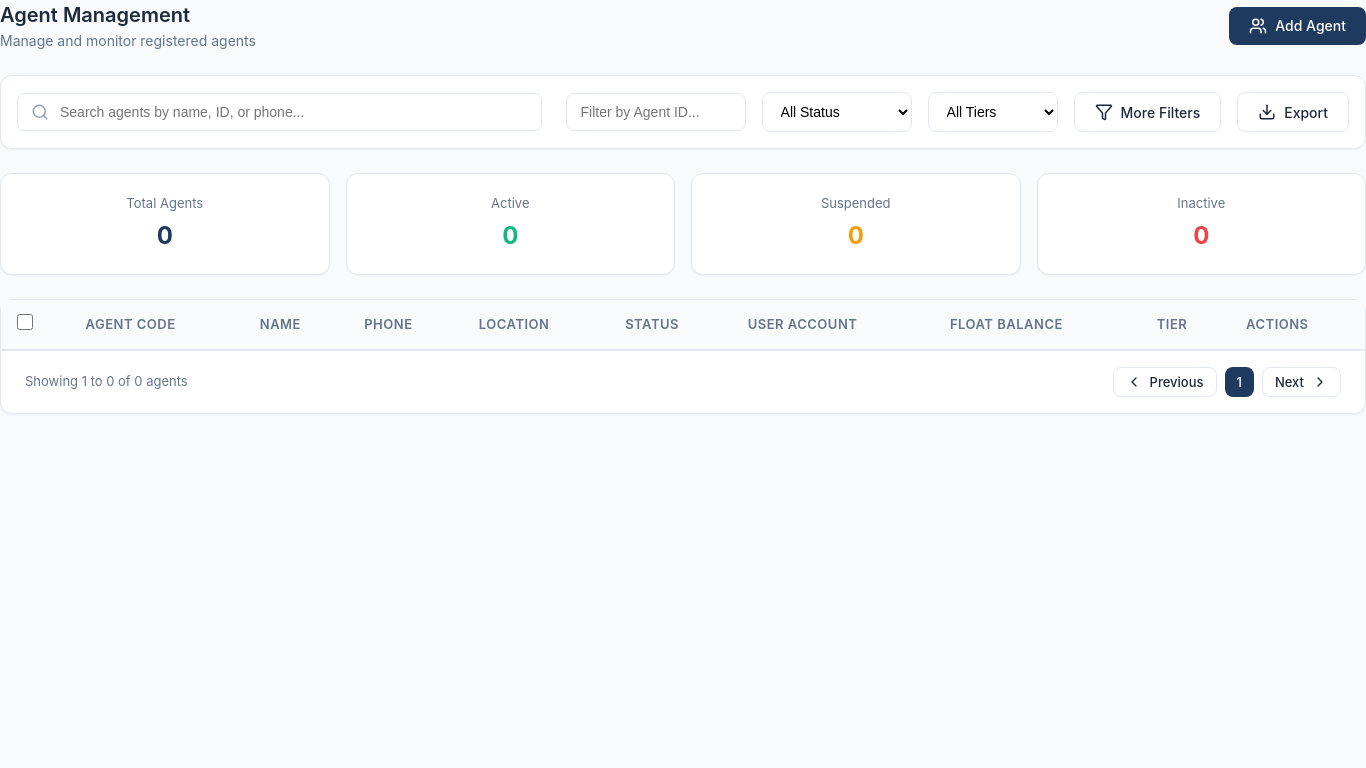
Scenario: Agents › should open Add Agent modal when button is clicked
Click the button with test id "add-agent-button" at (1298, 26), box [1229,6,1365,44]
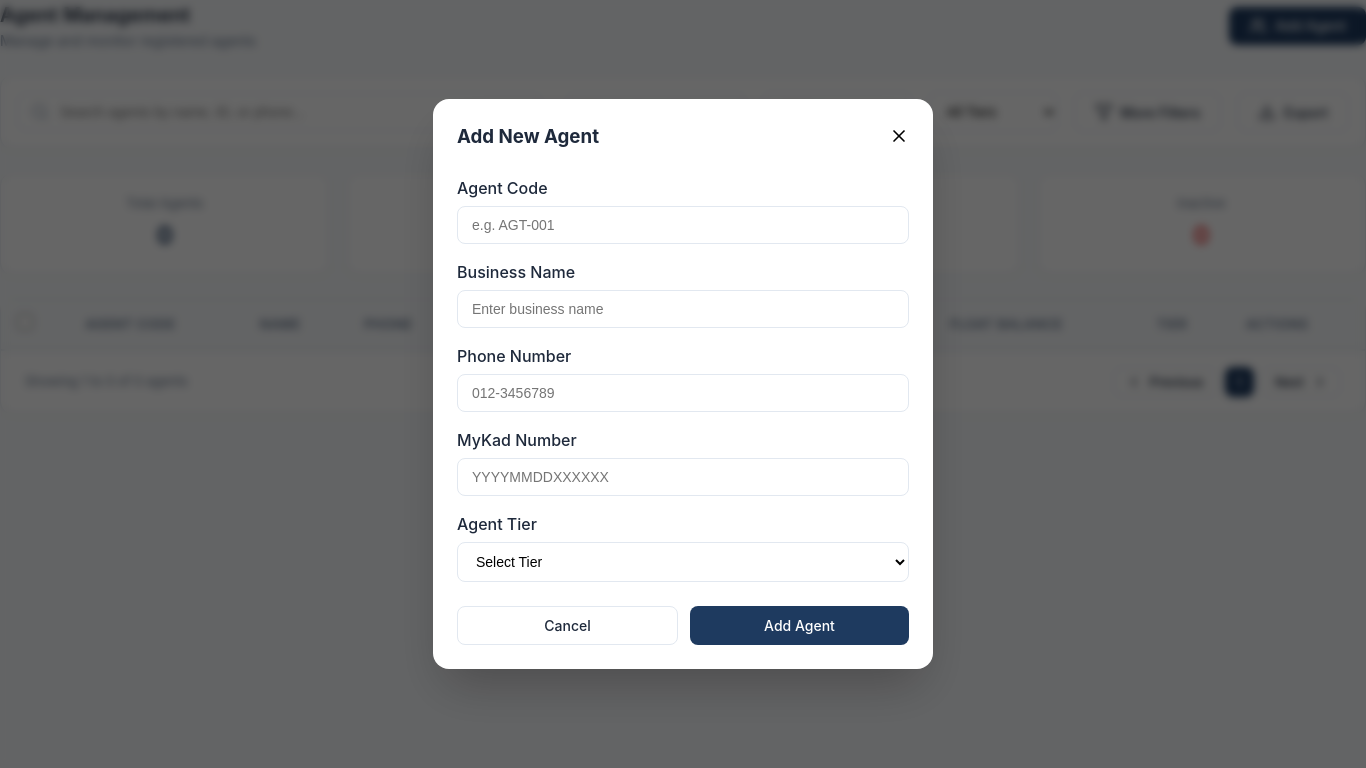
Result: the element with test id "add-agent-modal" is shown
Result: the heading "Add New Agent" is shown at [457,124,599,152]
